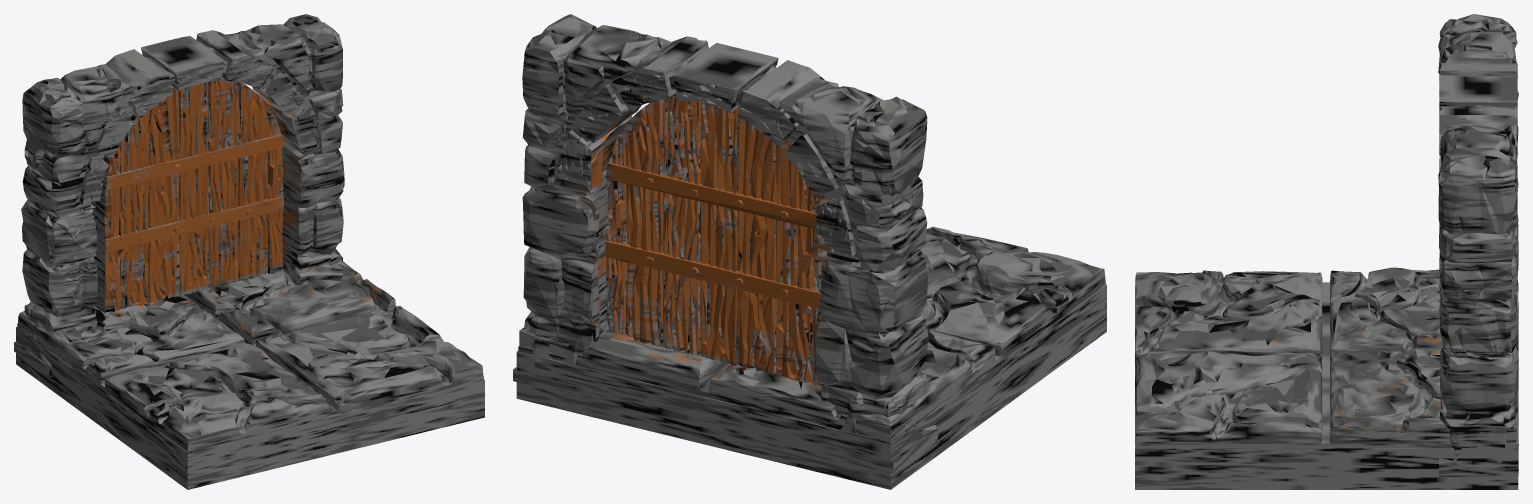
File: rough_stone_door.fbx
3 views of the same model, side by side, from view 1: azimuth 30°, elevation 25°; view 2: azimuth 150°, elevation 25°; view 3: azimuth 270°, elevation 25° (orthographic). The views are drawn at different scales.
Parts seen in each view (by area): view 1: Cube.004; view 2: Cube.004; view 3: Cube.004.
Part boxes in pixels (<box>): Cube.004: <box>14,14,484,489</box>; Cube.004: <box>513,14,1106,489</box>; Cube.004: <box>1135,14,1518,489</box>.
Size of the model in its own units: 5080 by 4638 by 5009.
1 material, 1 textured.
